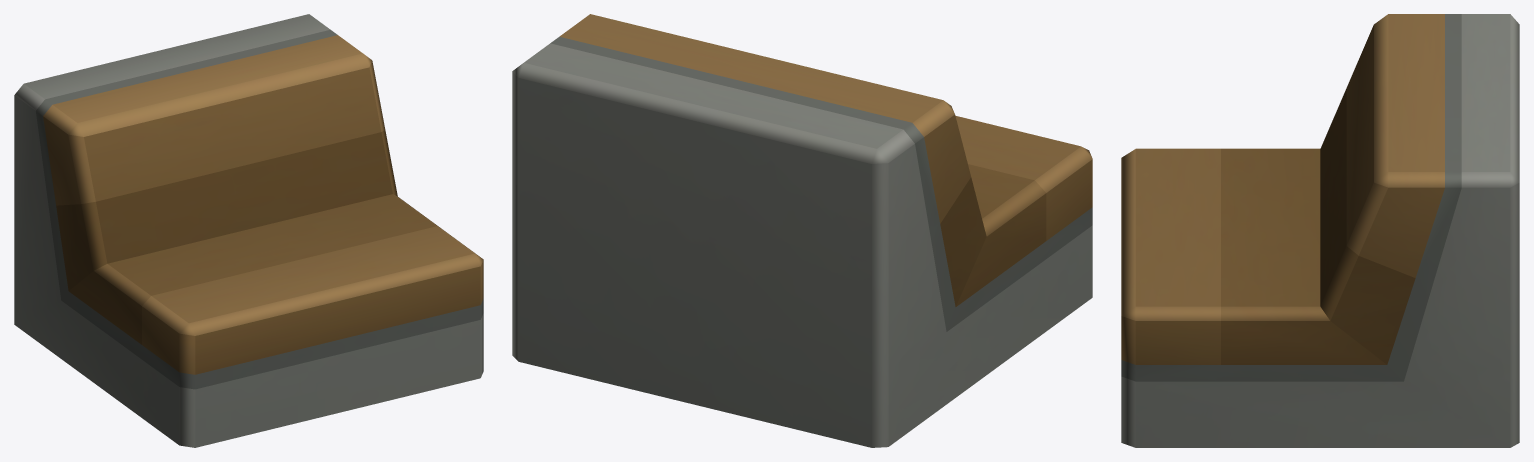
The model's file is chair_roof_x2_wood.fbx.
3 views of the same model, side by side, from view 1: azimuth 30°, elevation 25°; view 2: azimuth 150°, elevation 25°; view 3: azimuth 270°, elevation 25° (orthographic). The views are drawn at different scales.
Parts seen in each view (by area): view 1: chair_roof_x2_wood; view 2: chair_roof_x2_wood; view 3: chair_roof_x2_wood.
Boxes of the visible parts, <box> form: chair_roof_x2_wood: <box>14,14,483,447</box>; chair_roof_x2_wood: <box>512,14,1092,447</box>; chair_roof_x2_wood: <box>1121,14,1519,447</box>.
Bounding box in the file's own units: 100 × 75 × 100.
